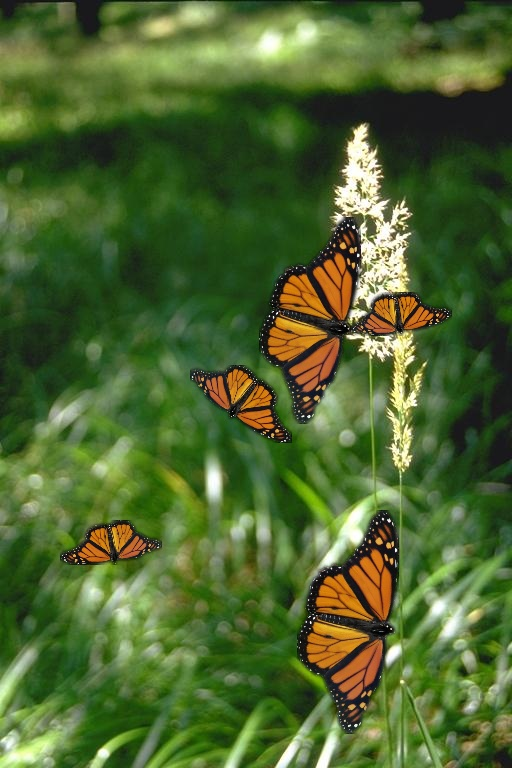danaus_plexippus: (297, 510, 399, 734), (259, 217, 361, 424), (190, 365, 292, 443), (60, 520, 162, 565), (350, 292, 452, 336)
